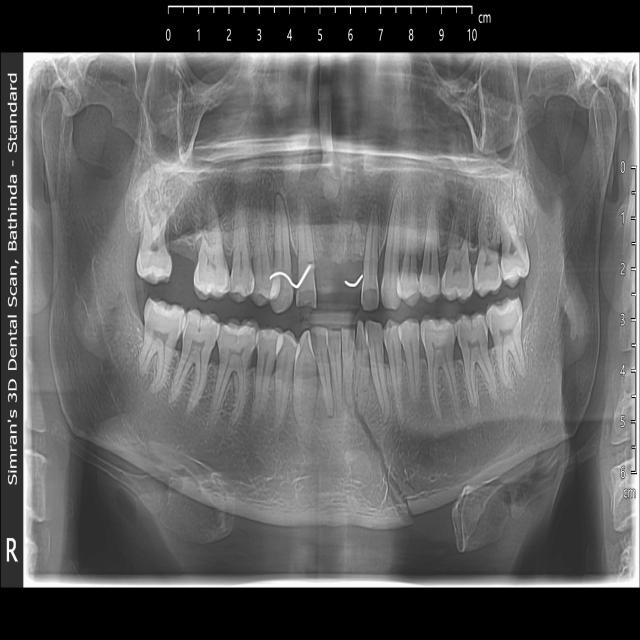Caries: (501, 238, 528, 283), (311, 327, 326, 366)
Missing teeth: (319, 229, 362, 291), (174, 218, 194, 267)
Periapical lesion: (323, 398, 334, 426)
